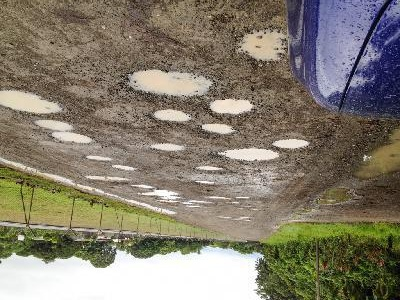pothole: (124, 67, 214, 100), (235, 26, 288, 63), (0, 88, 62, 115), (205, 98, 252, 118), (214, 148, 280, 161), (49, 130, 95, 146), (152, 110, 191, 126), (198, 121, 236, 137), (31, 118, 72, 132), (270, 137, 310, 150), (85, 176, 129, 186), (149, 141, 184, 152), (138, 189, 180, 198), (193, 164, 229, 173), (109, 165, 138, 173), (84, 155, 112, 163), (128, 183, 155, 190), (192, 179, 216, 186)
